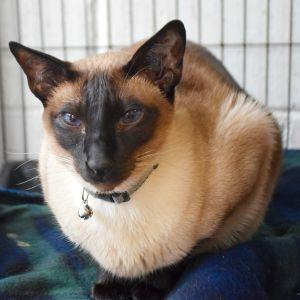siamese: (10, 12, 195, 208)
